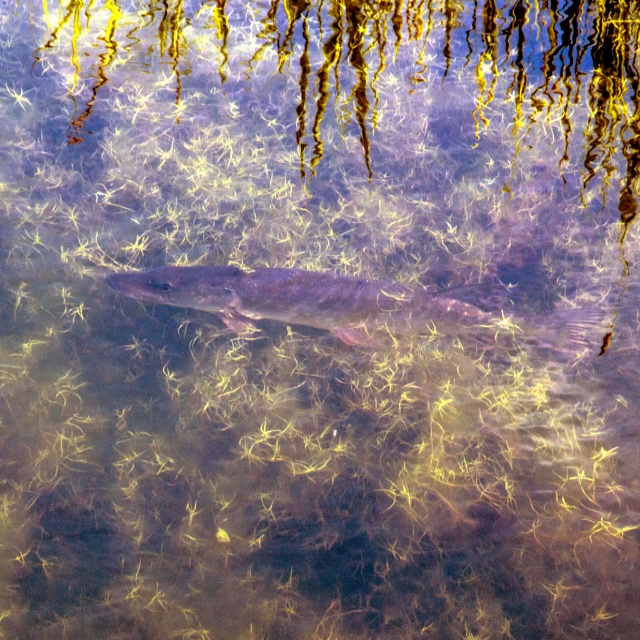Fish: (98, 266, 583, 353)
